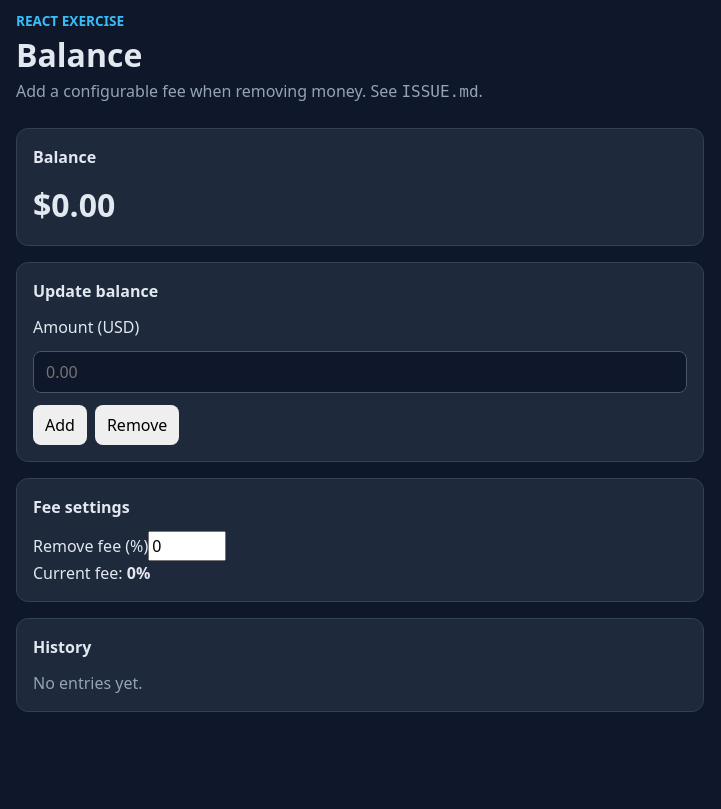
it: App › removes money with a fee
// Add $100
Type "100" into the field labelled "Amount (USD)" at (360, 372), box [33,351,687,393]
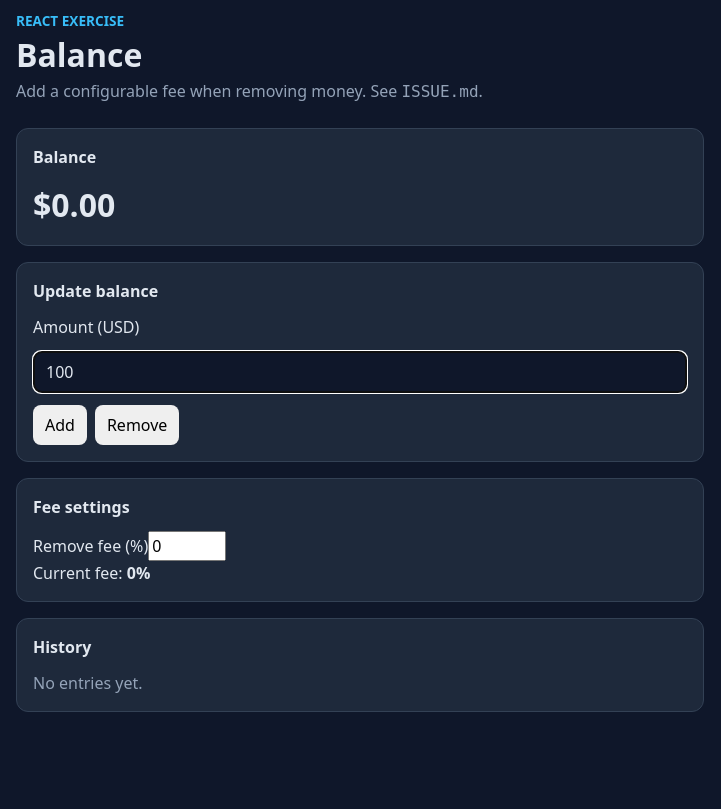
Click the button "Add" at (60, 425), box [33,405,87,445]
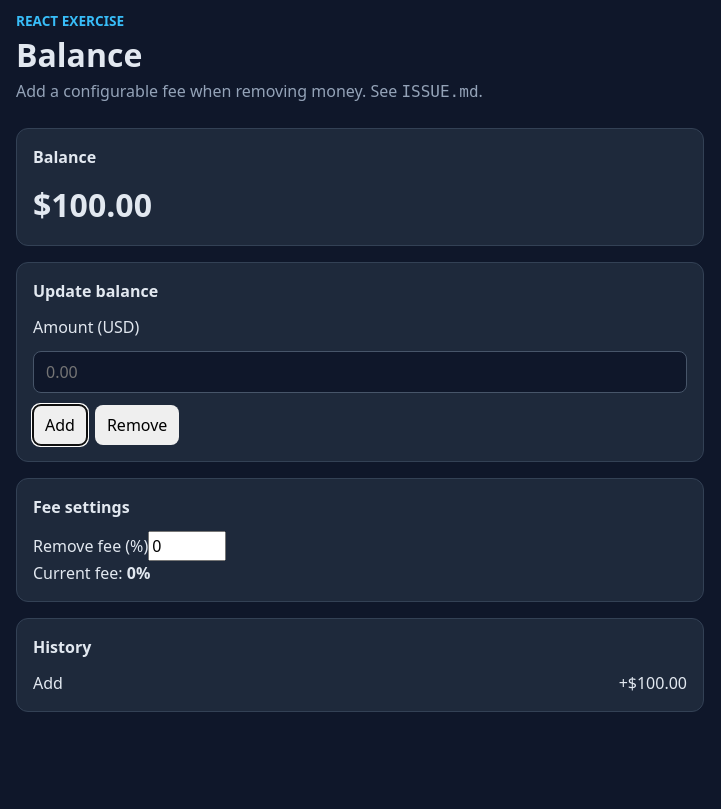
// Set 1% fee
Replace the text in the number field labelled "Remove fee (%)" with "1" at (187, 546), box [148,531,226,561]
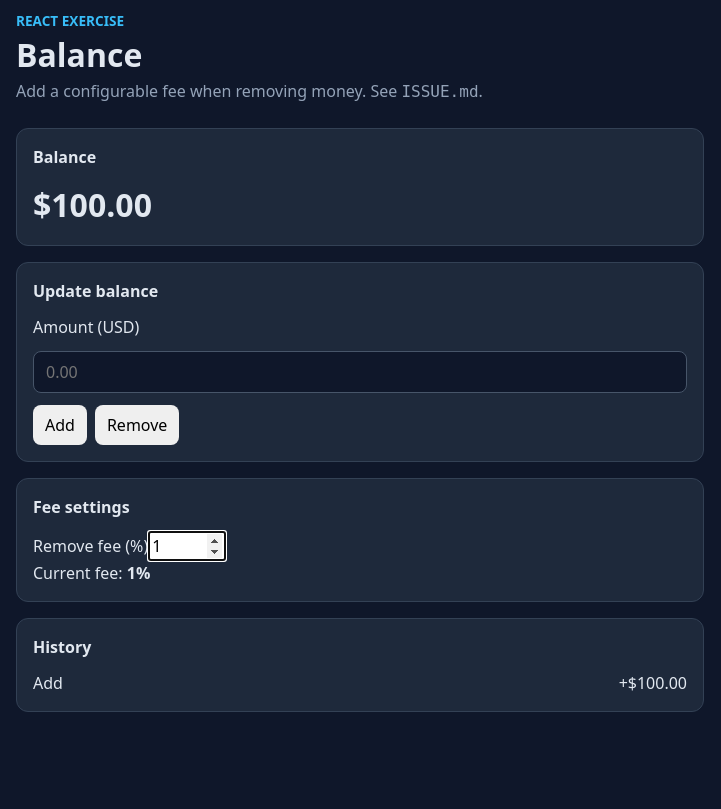
// Remove $100
Type "100" into the field labelled "Amount (USD)" at (360, 372), box [33,351,687,393]
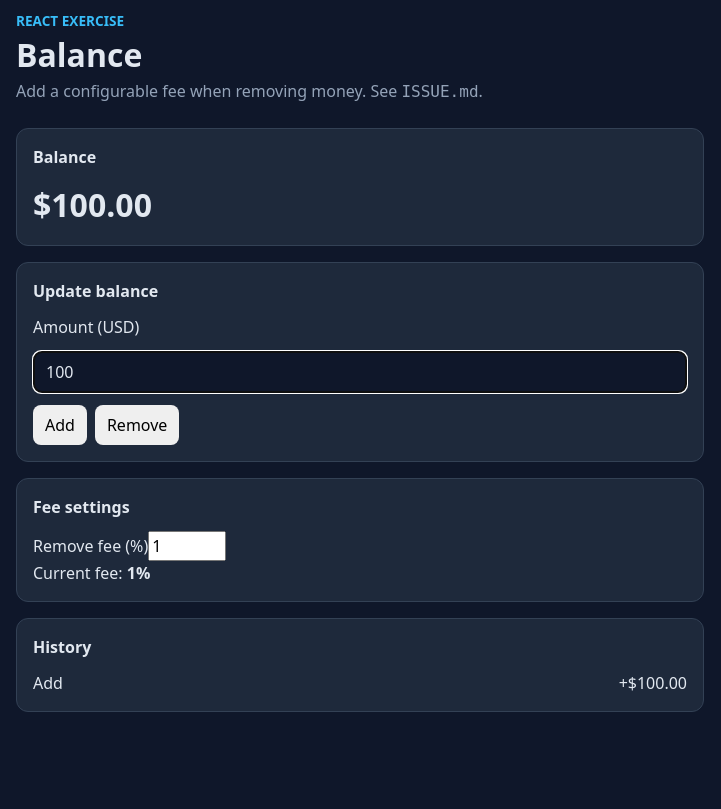
Click the button "Remove" at (137, 425), box [95,405,179,445]
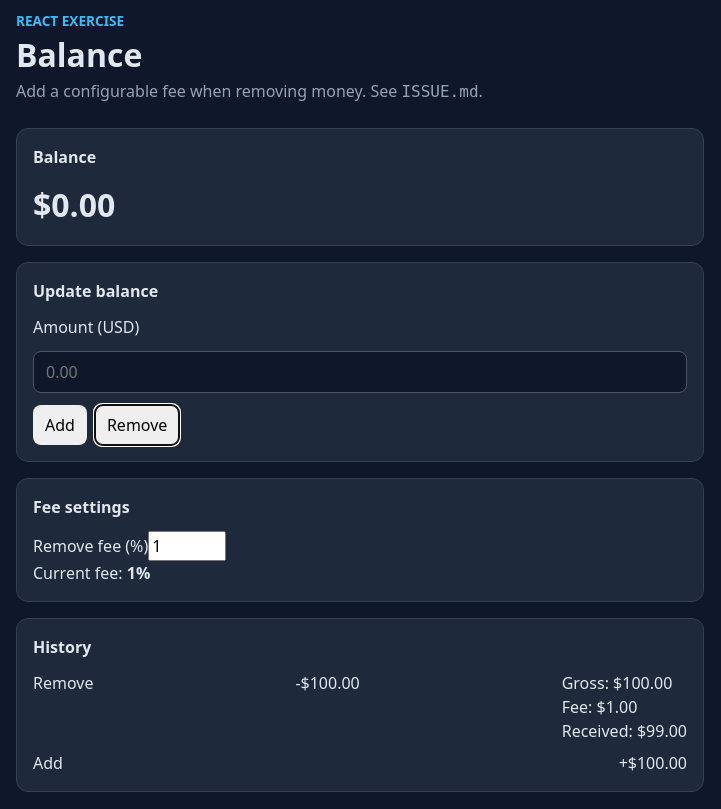
Check: the element named "Current balance" shows "$0.00", box [33,183,115,226]
